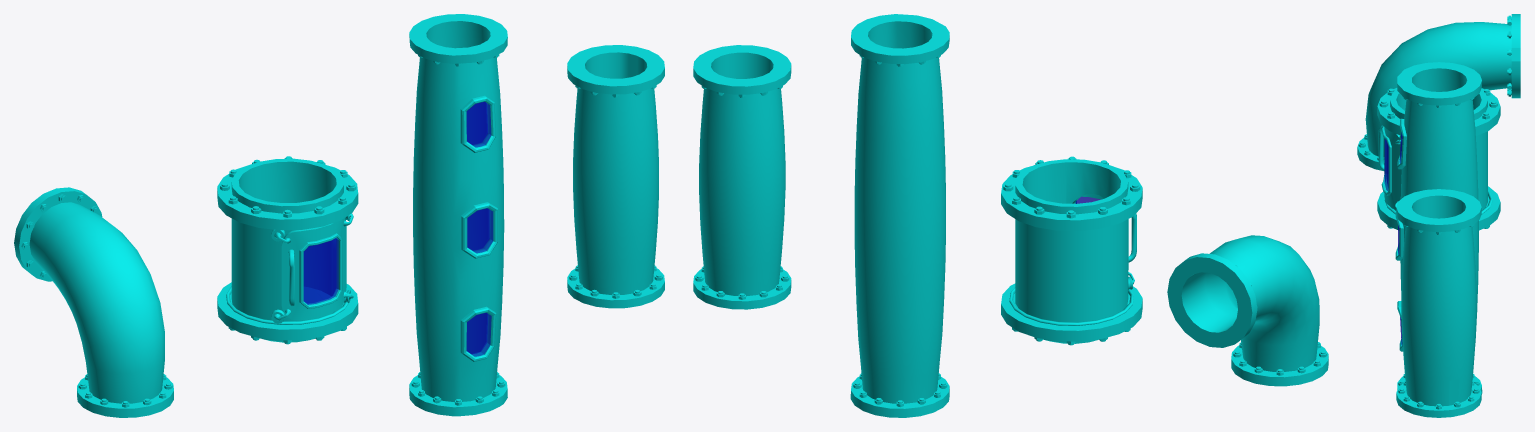
File: Pipes.fbx
3 views of the same model, side by side, from view 1: azimuth 30°, elevation 25°; view 2: azimuth 150°, elevation 25°; view 3: azimuth 270°, elevation 25° (orthographic). The views are drawn at different scales.
Visible parts, largest first — view 1: Pipe02_low, Pipe03_low, Pipe04_low, Pipe01_low, CapsuleDoor_low; view 2: Pipe02_low, Pipe03_low, Pipe01_low, Pipe04_low, CapsuleDoor_low; view 3: Pipe03_low, Pipe02_low, Pipe04_low, Pipe01_low, CapsuleDoor_low.
Boxes of the visible parts, x1=… form: Pipe02_low: x1=409, y1=14, x2=507, y2=416; Pipe03_low: x1=567, y1=45, x2=664, y2=308; Pipe04_low: x1=14, y1=187, x2=173, y2=417; Pipe01_low: x1=217, y1=156, x2=358, y2=344; CapsuleDoor_low: x1=271, y1=213, x2=353, y2=323; Pipe02_low: x1=850, y1=14, x2=949, y2=417; Pipe03_low: x1=693, y1=45, x2=791, y2=309; Pipe01_low: x1=1001, y1=156, x2=1142, y2=345; Pipe04_low: x1=1167, y1=235, x2=1328, y2=386; CapsuleDoor_low: x1=1074, y1=194, x2=1136, y2=289; Pipe03_low: x1=1396, y1=189, x2=1481, y2=417; Pipe02_low: x1=1395, y1=62, x2=1482, y2=394; Pipe04_low: x1=1357, y1=14, x2=1520, y2=170; Pipe01_low: x1=1377, y1=88, x2=1500, y2=230; CapsuleDoor_low: x1=1378, y1=125, x2=1401, y2=209.
Bounding box in the file's own units: 2.6 × 1.5 × 0.7072.
